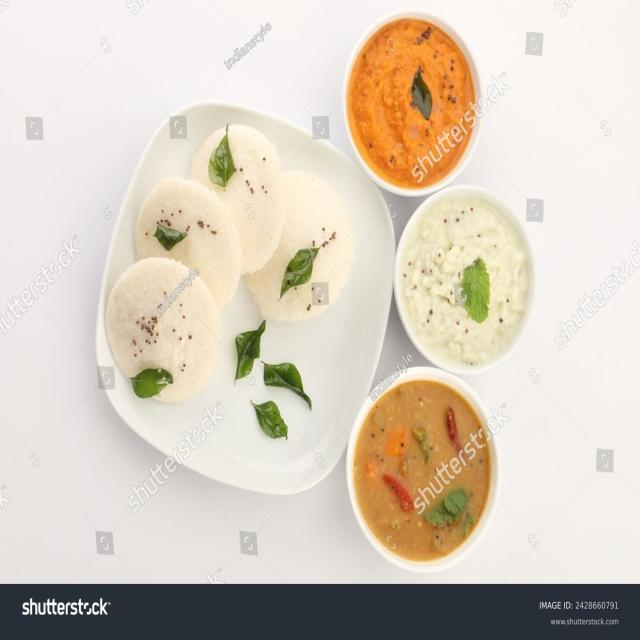IDLI: (105, 125, 353, 404)
